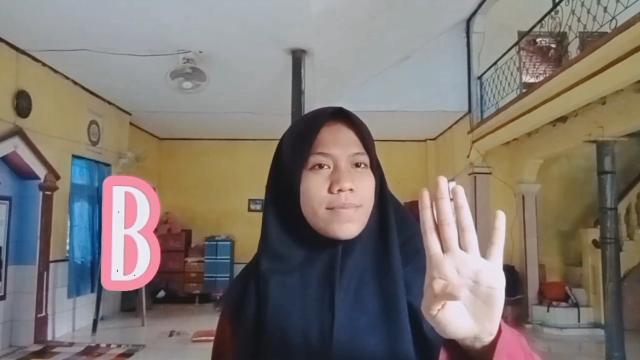B: (417, 175, 507, 350)
